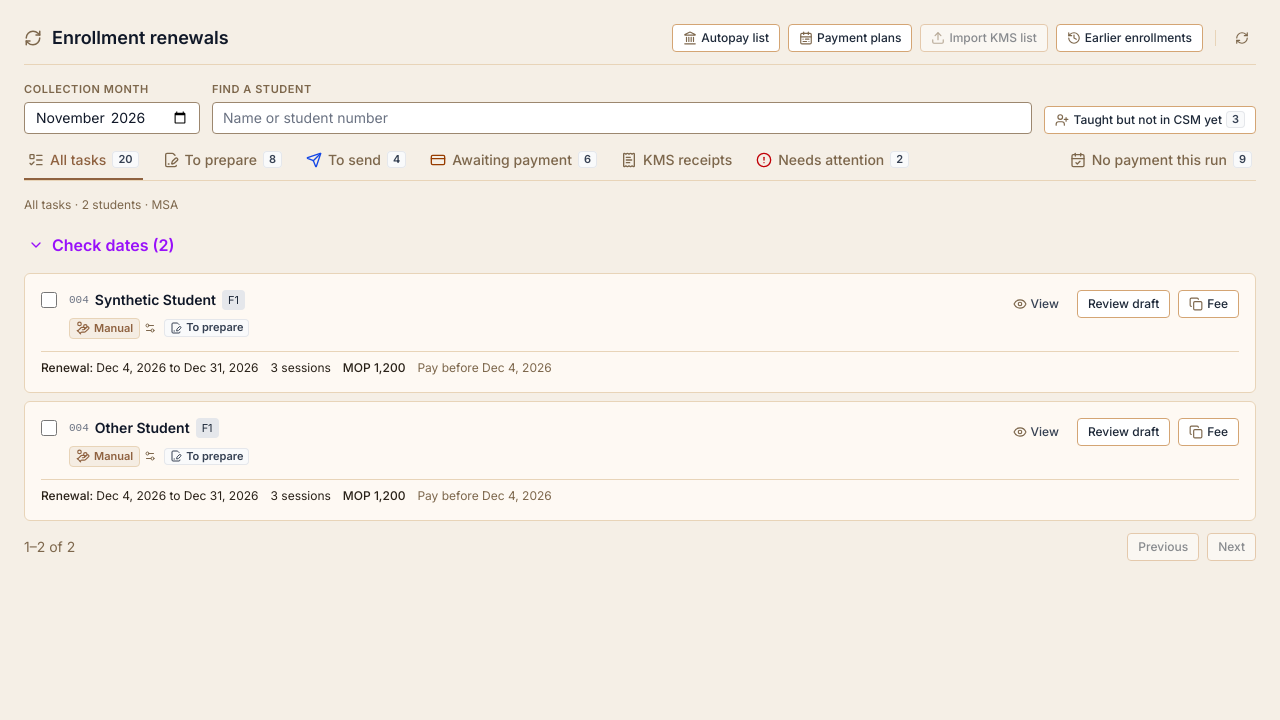
Test: enrollment renewal queue › uses the original section checkbox to select or clear the displayed group without collapsing it
Step 1. Click the checkbox named "Select Synthetic Student" → coordinates (49, 300), box [41, 292, 57, 308]
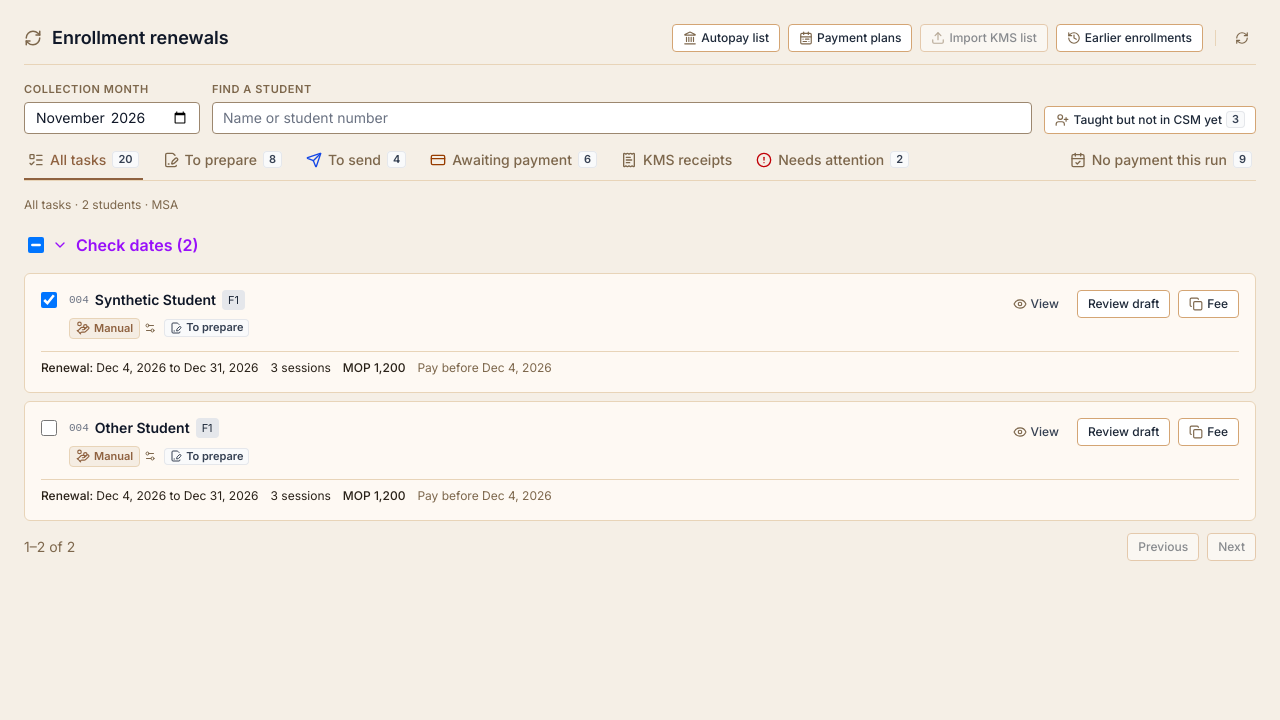
Step 2. Click the checkbox named "Select Check dates" → coordinates (36, 244), box [28, 236, 44, 252]
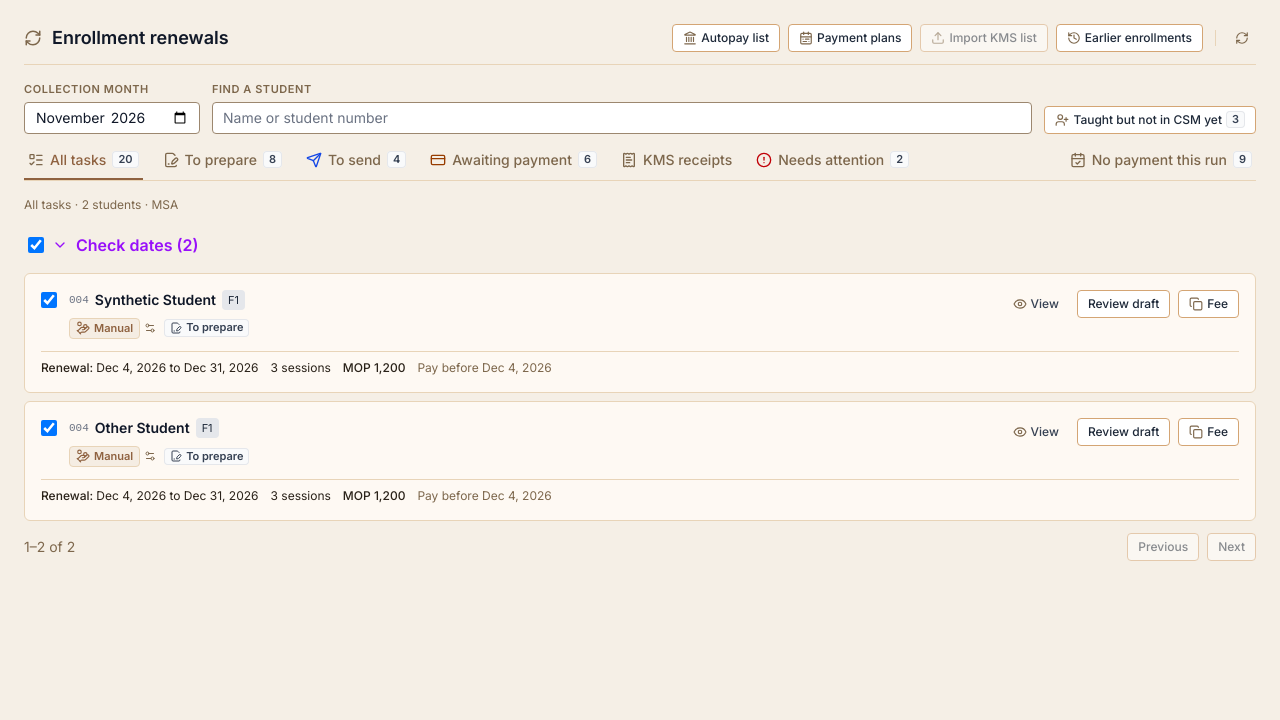
Result: the checkbox named "Select Check dates" is checked
Result: the checkbox named "Select Other Student" is checked at [41, 420, 57, 436]
Step 3. Click the checkbox named "Select Check dates" → coordinates (36, 244), box [28, 236, 44, 252]
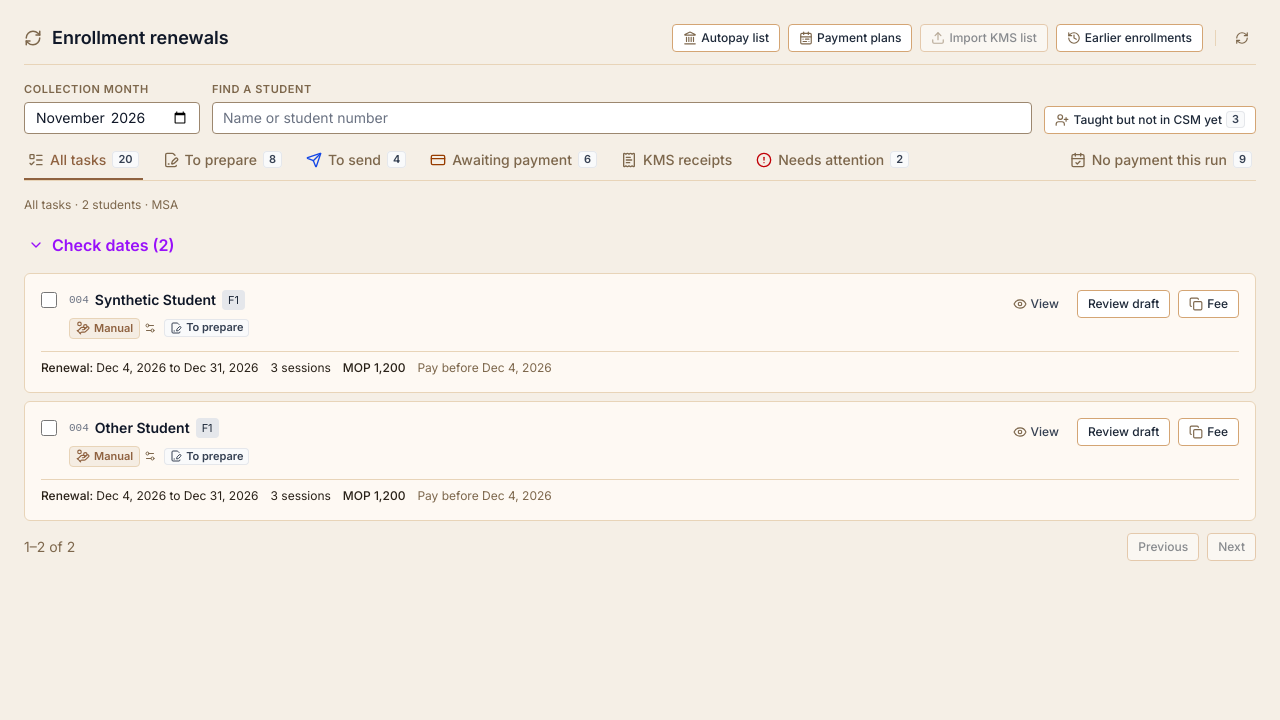
Result: the checkbox named "Select Synthetic Student" is not checked at [41, 292, 57, 308]
Result: the checkbox named "Select Other Student" is not checked at [41, 420, 57, 436]
